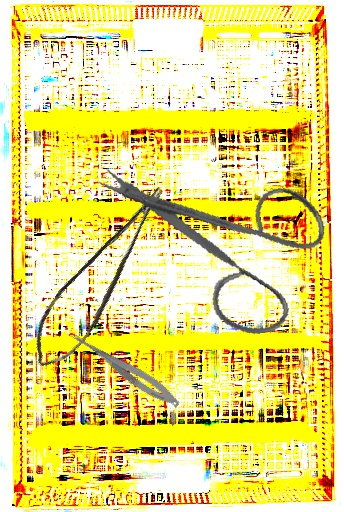Iris Scissors: (92, 130, 343, 359)
Micro Scissor: (12, 181, 195, 379), (62, 326, 184, 412)
